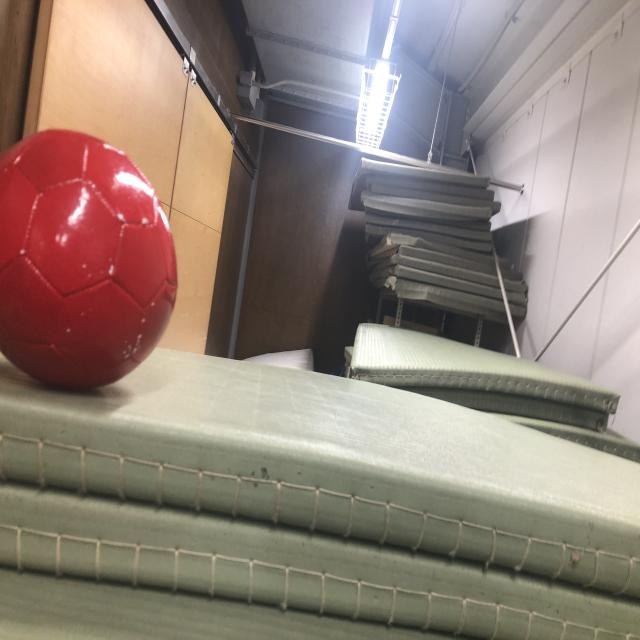red_ball: (0, 128, 179, 392)
